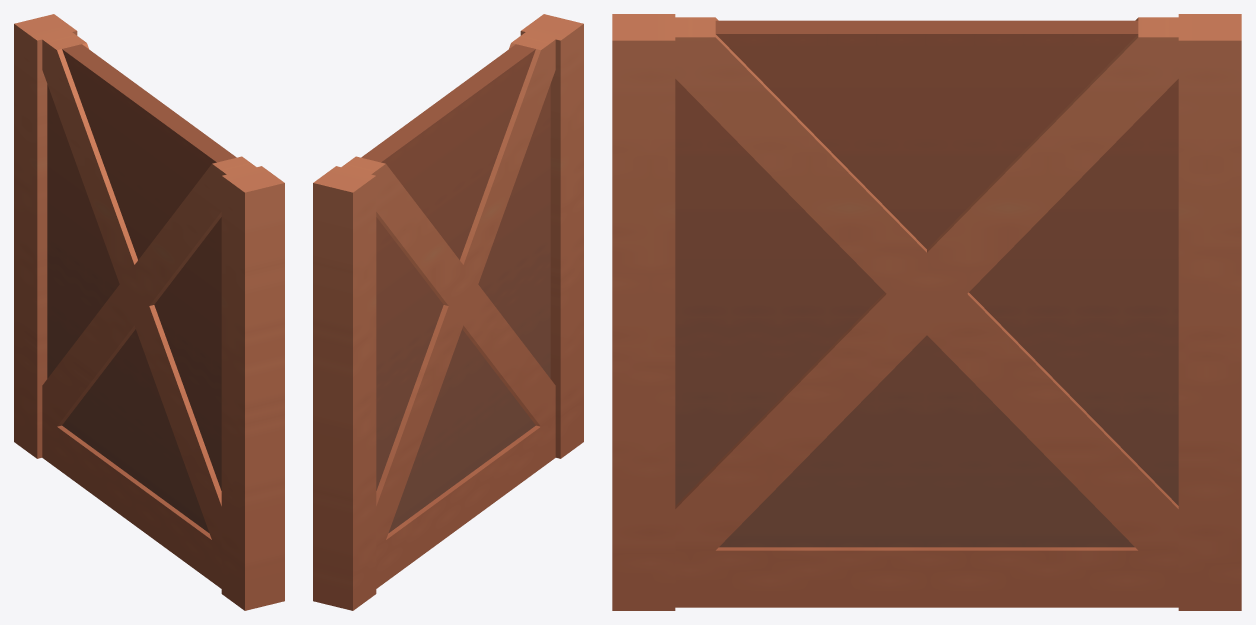
The model's file is wallWoodDetailCross.fbx.
The picture shows the model from 3 angles, left to right: view 1: azimuth 30°, elevation 25°; view 2: azimuth 150°, elevation 25°; view 3: azimuth 270°, elevation 25°; orthographic projection. The views are drawn at different scales.
Parts seen in each view (by area): view 1: wallWoodDetailCross; view 2: wallWoodDetailCross; view 3: wallWoodDetailCross.
Part boxes in pixels (left/top/right/bottom): wallWoodDetailCross: left=14, top=14, right=284, bottom=610; wallWoodDetailCross: left=313, top=14, right=583, bottom=610; wallWoodDetailCross: left=612, top=14, right=1241, bottom=610.
Size of the model in its own units: 0.1 by 1 by 1.
